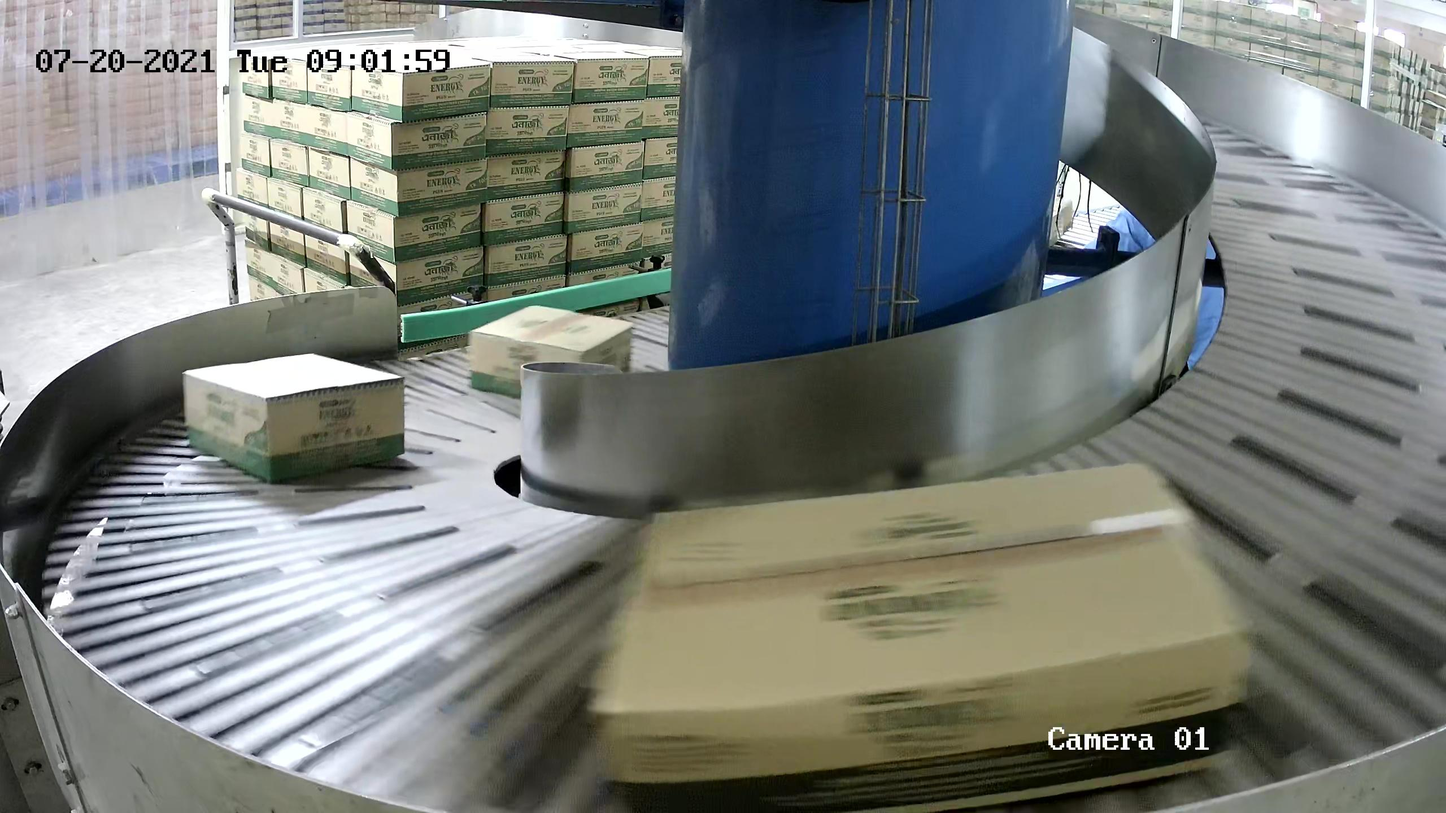Box: (587, 456, 1252, 813), (182, 352, 407, 483), (468, 304, 635, 397)
